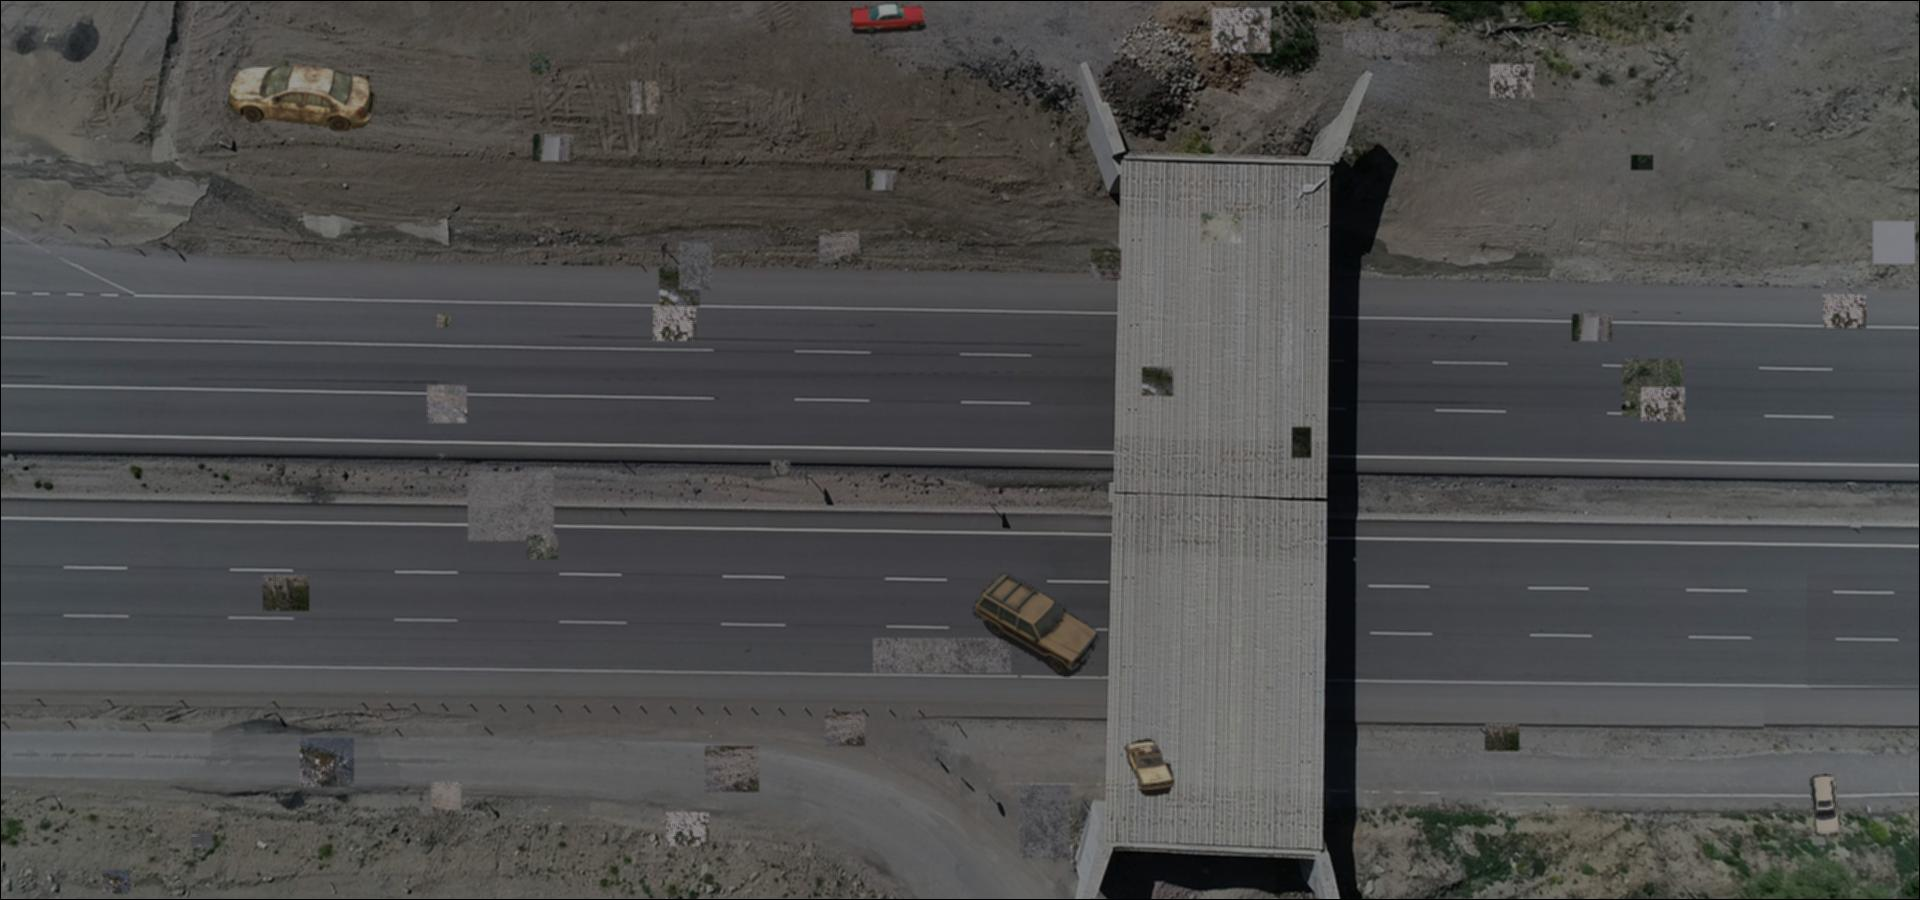arac: (973, 568, 1103, 678), (228, 60, 380, 131), (1120, 738, 1177, 796), (849, 2, 927, 34), (1806, 771, 1840, 836)
